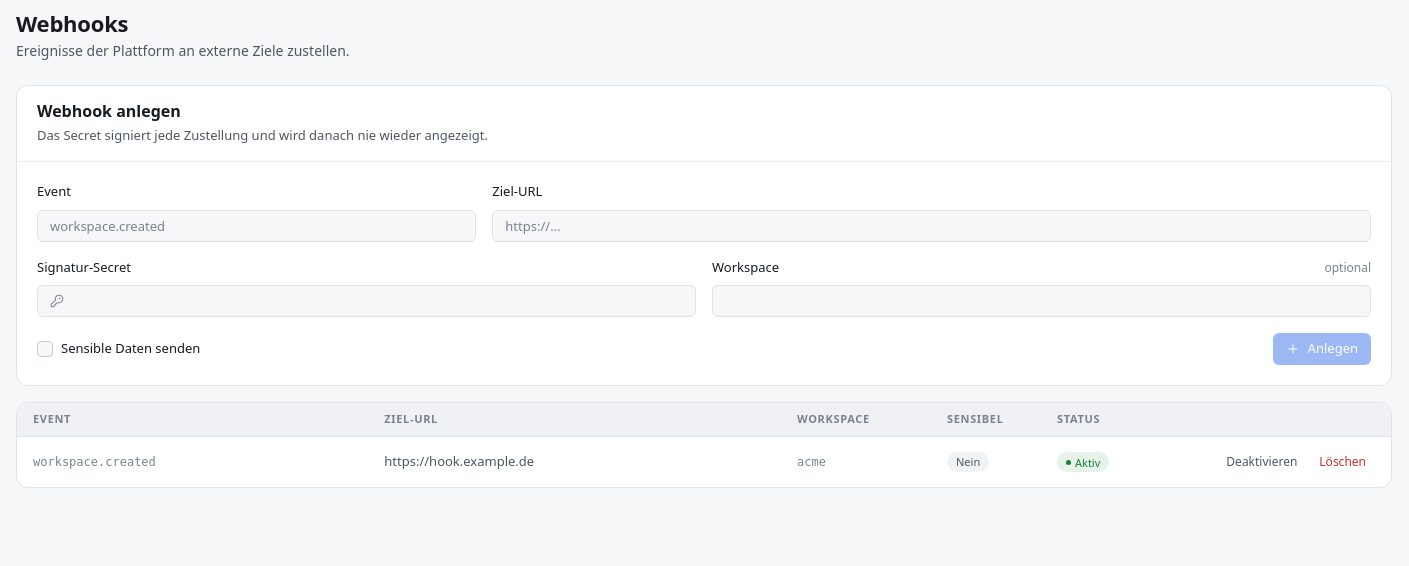
Test: WebhooksListView › aborts create when a before-create hook cancels
The image size is (1409, 566).
Type "user.created" into the field named "eventName".
click(257, 226); type("user.created")  # box 50,211 -> 463,241
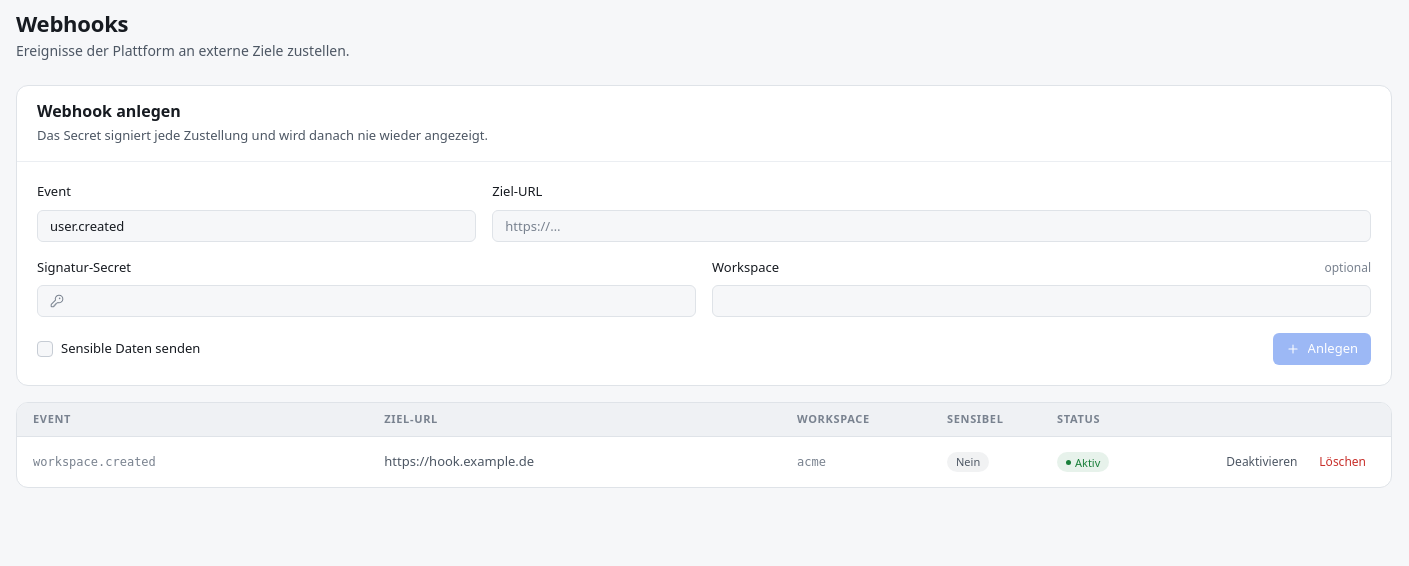
Type "https://x.example.de" into the field named "targetUrl".
click(932, 226); type("https://x.example.de")  # box 505,211 -> 1358,241
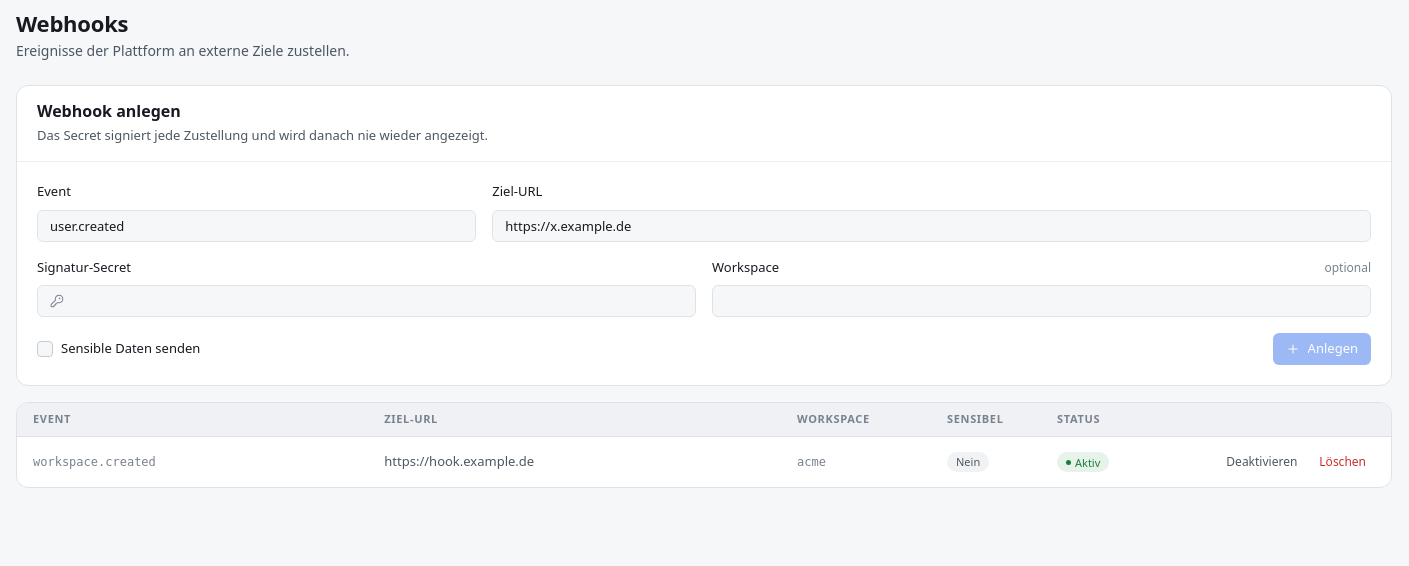
Type "topsecret" into the password field named "secret".
click(378, 301); type("topsecret")  # box 72,286 -> 683,316
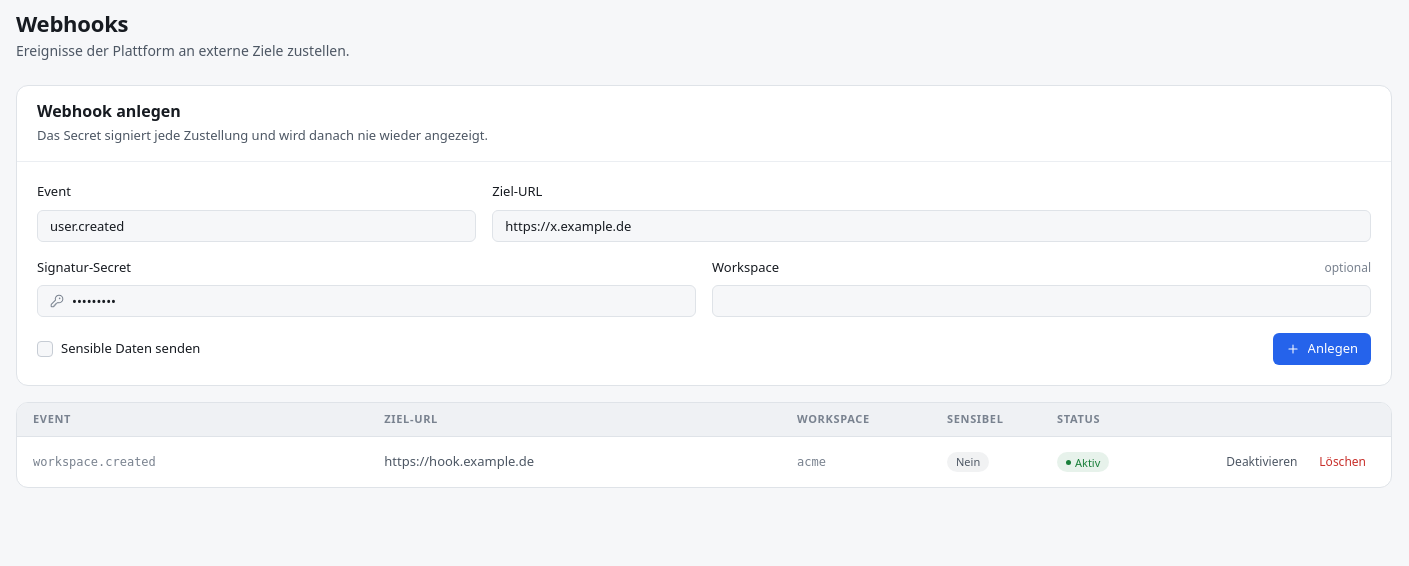
Submit the form with class "webhooks__form", box 37,182 -> 1371,365
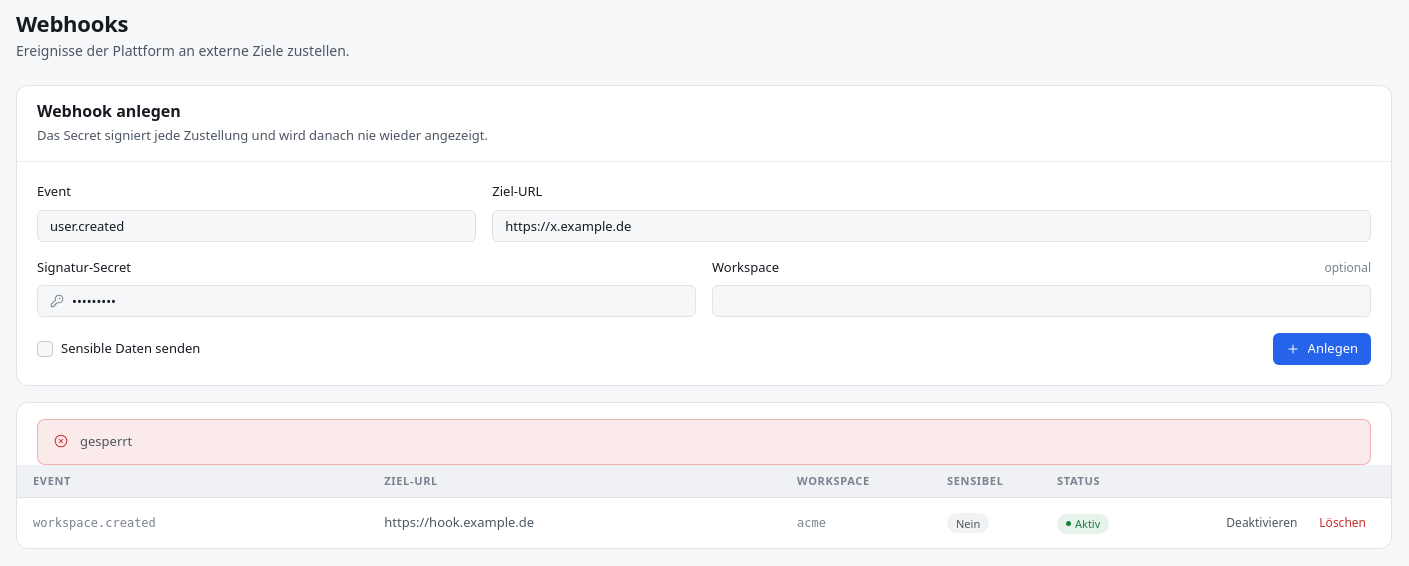
Check: the text "gesperrt" is shown, box 80,432 -> 132,450
